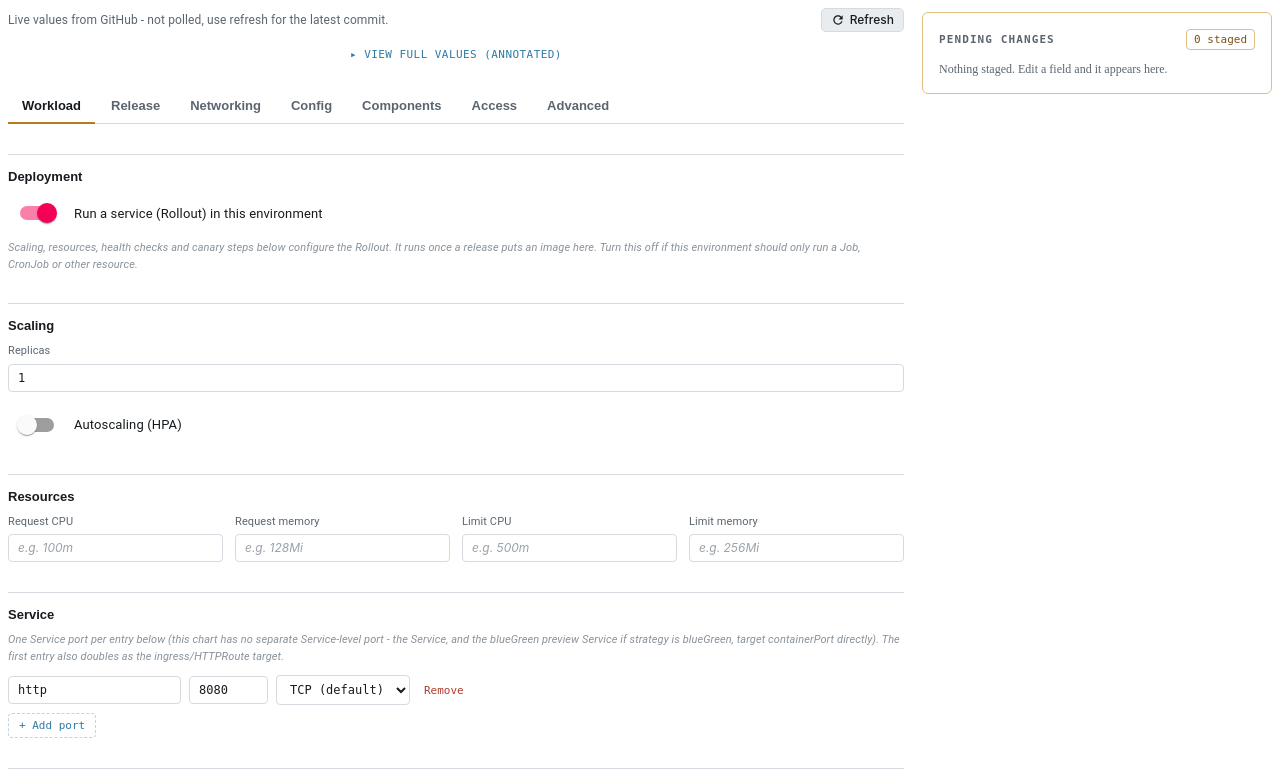
Test: values form: analysis templates and their scope › shows the scope of each template and switches it
This screenshot has width=1280, height=769.
Click the tab "Release" at (136, 107), box [97, 89, 174, 124]
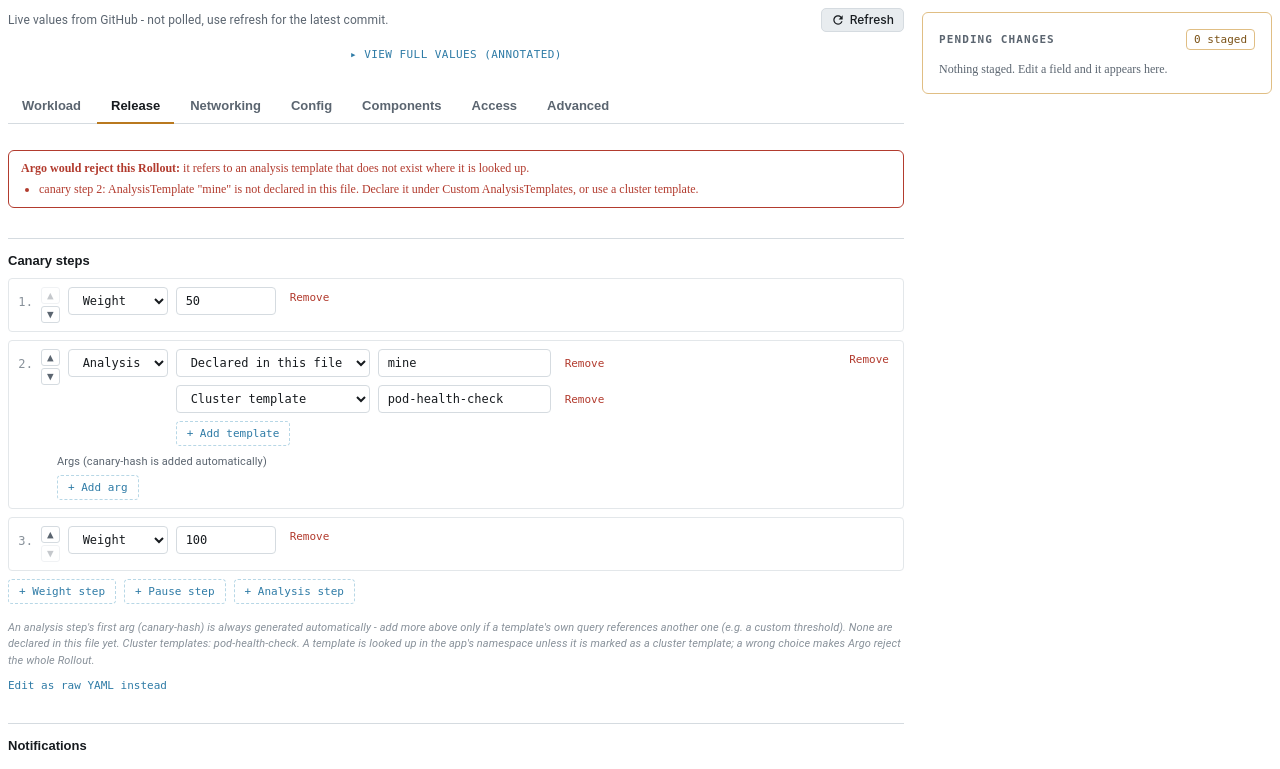
Expected: the dropdown named "Step 2 template 1 scope" shows "Declared in this file", [176, 349, 370, 377]
Expected: the dropdown named "Step 2 template 2 scope" shows "Cluster template"
Select "Declared in this file" in the dropdown named "Step 2 template 2 scope" at (273, 399), box [176, 385, 370, 413]
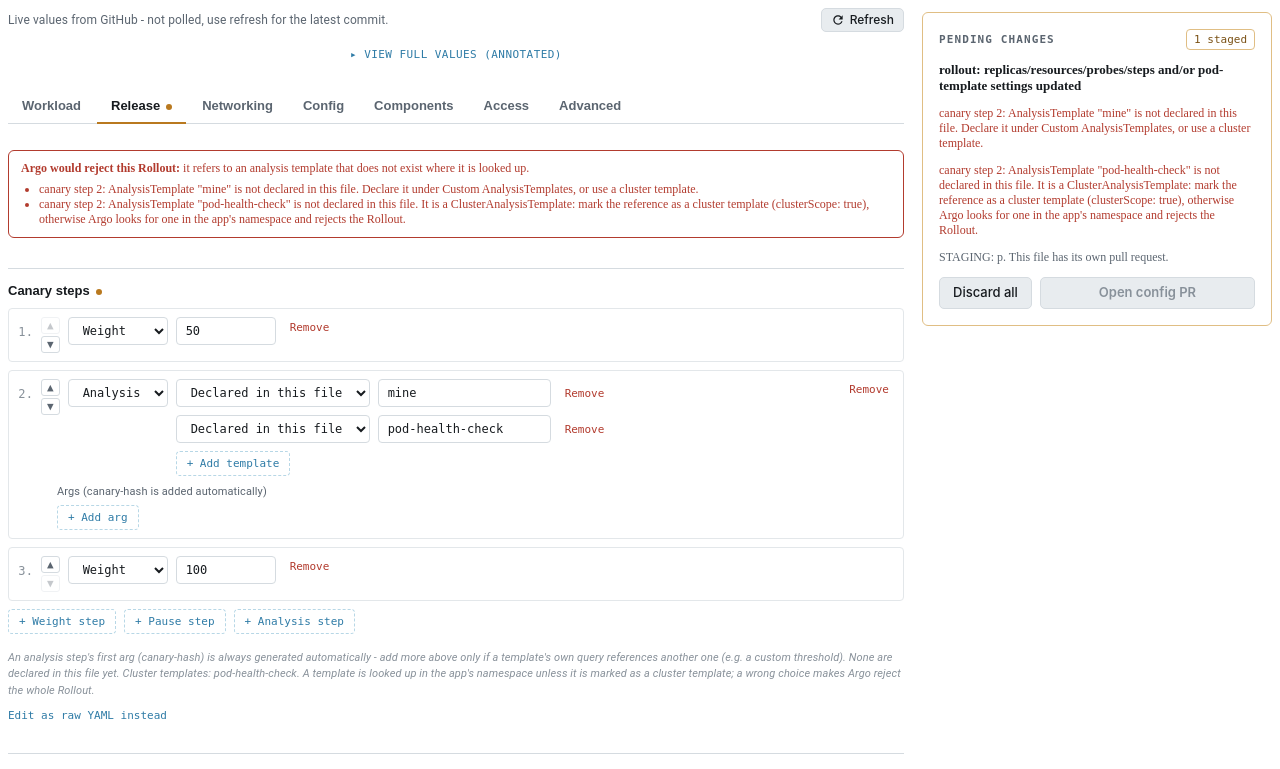
Replace the text in the field named "Step 2 template 2" with "other" at (464, 429), box [378, 415, 551, 443]
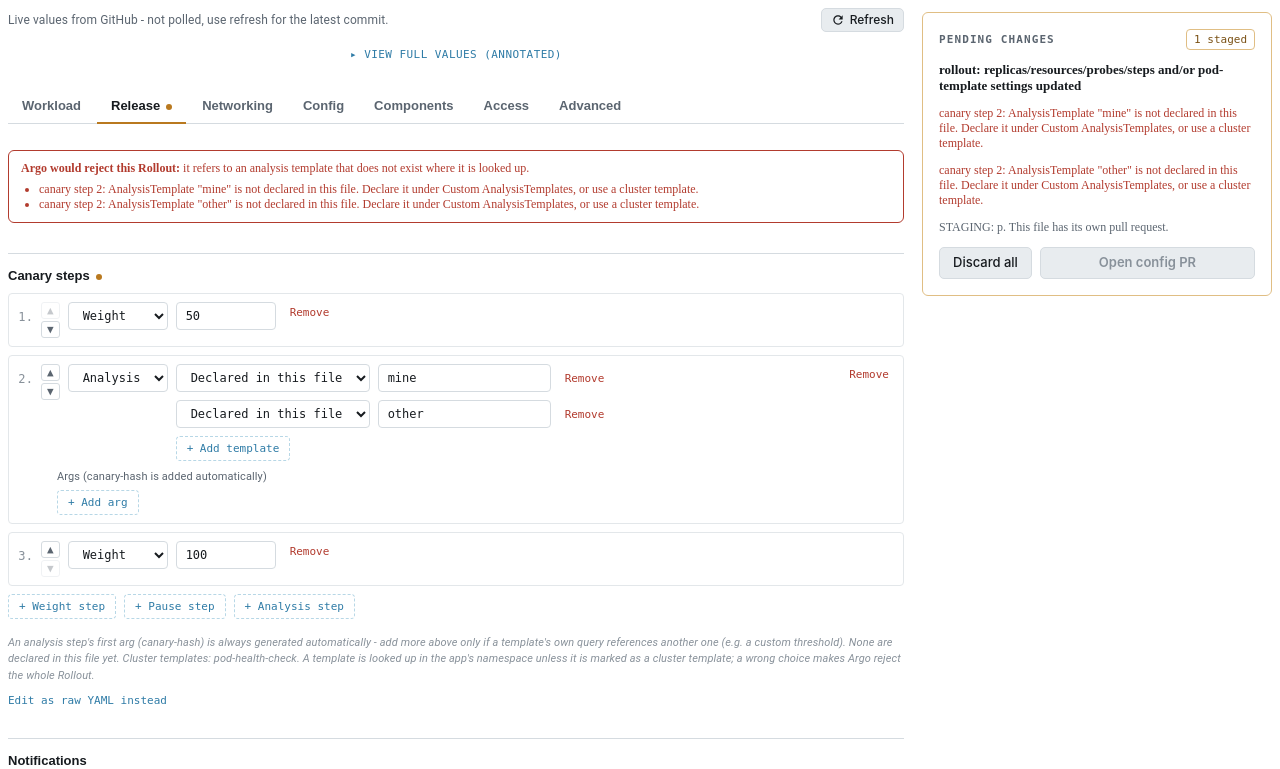
Expected: the text "AnalysisTemplate \"other\" is not declared in this file" is shown, [939, 163, 1250, 207]
